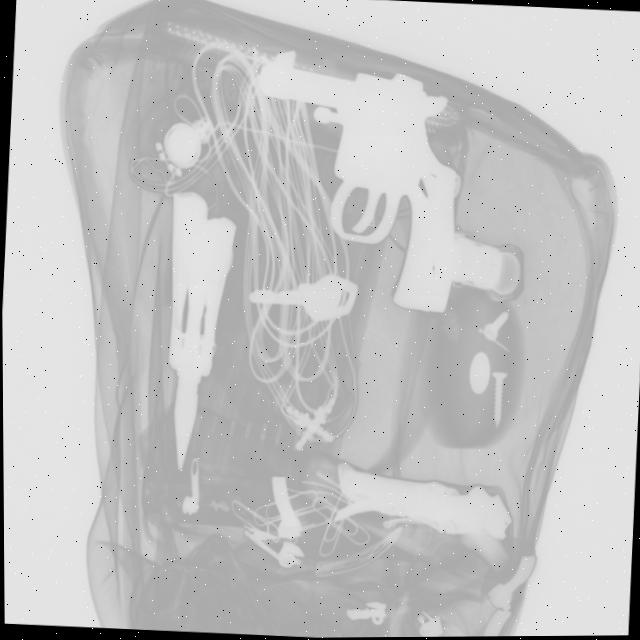pistol: (244, 45, 472, 324)
